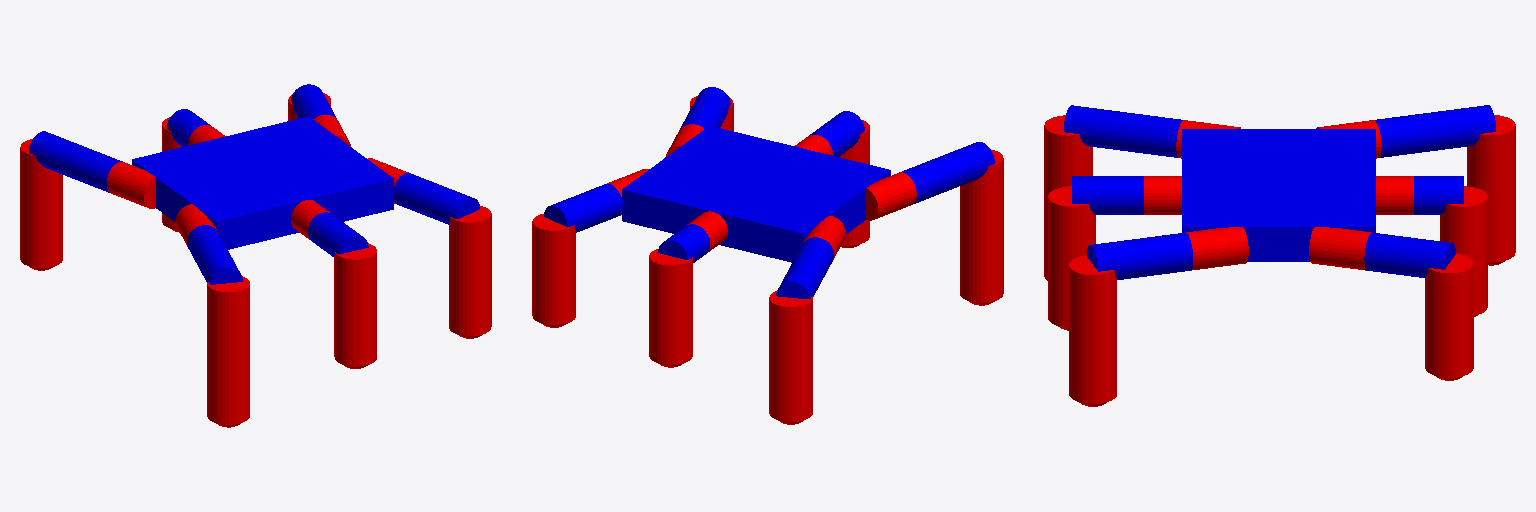
--- Render facts (derived) ---
Views: 3 orthographic renders of the robot side by side, from view 1: azimuth 30°, elevation 25°; view 2: azimuth 150°, elevation 25°; view 3: azimuth 270°, elevation 25°.
Model pexod with 19 links and 18 joints (18 revolute), rooted at base_link, posed all joints at 0.
Visible links, largest first — view 1: base_link, leg_5_3, leg_3_3, leg_4_3, leg_0_3, leg_0_2, leg_3_2, leg_5_2, leg_4_2, leg_0_1, leg_2_2, leg_1_2 (+2 smaller); view 2: base_link, leg_5_3, leg_0_3, leg_1_3, leg_2_3, leg_5_2, leg_2_2, leg_0_2, leg_5_1, leg_3_2, leg_4_2, leg_1_2 (+3 smaller); view 3: base_link, leg_3_3, leg_2_3, leg_0_3, leg_0_2, leg_4_3, leg_5_2, leg_3_2, leg_1_3, leg_2_2, leg_5_3, leg_4_2 (+5 smaller).
Link boxes in pixels (x1,y1,x2,y2): base_link: [132, 116, 393, 249]; leg_5_3: [207, 276, 249, 427]; leg_3_3: [449, 206, 491, 338]; leg_4_3: [334, 243, 376, 368]; leg_0_3: [20, 139, 62, 270]; leg_0_2: [29, 131, 122, 192]; leg_3_2: [393, 173, 479, 224]; leg_5_2: [187, 225, 242, 284]; leg_4_2: [308, 212, 368, 256]; leg_0_1: [107, 162, 155, 208]; leg_2_2: [291, 84, 338, 121]; leg_1_2: [167, 109, 210, 146]; base_link: [622, 126, 890, 262]; leg_5_3: [960, 150, 1003, 305]; leg_0_3: [769, 291, 812, 424]; leg_1_3: [649, 249, 692, 367]; leg_2_3: [532, 214, 575, 327]; leg_5_2: [899, 142, 994, 203]; leg_2_2: [544, 184, 622, 232]; leg_0_2: [776, 237, 833, 299]; leg_5_1: [866, 172, 916, 220]; leg_3_2: [680, 87, 730, 128]; leg_4_2: [809, 111, 864, 156]; leg_1_2: [658, 224, 709, 262]; base_link: [1182, 129, 1375, 261]; leg_3_3: [1069, 255, 1116, 406]; leg_2_3: [1425, 253, 1473, 380]; leg_0_3: [1467, 115, 1515, 265]; leg_0_2: [1375, 105, 1495, 157]; leg_4_3: [1048, 186, 1095, 330]; leg_5_2: [1064, 105, 1182, 157]; leg_3_2: [1087, 232, 1192, 279]; leg_1_3: [1440, 186, 1487, 316]; leg_2_2: [1364, 233, 1455, 277]; leg_5_3: [1044, 115, 1092, 280]; leg_4_2: [1072, 176, 1143, 214].
Bounding box of the posed robot: 0.3925 × 0.4872 × 0.2043 m (x, y, z).
Geometry: primitives only (box / cylinder / sphere), no mesh files.

URDF robot description (pexod):
<?xml version="1.0" ?>
<!-- =================================================================================== -->
<!-- |    This document was autogenerated by xacro from pexod.xacro                    | -->
<!-- |    EDITING THIS FILE BY HAND IS NOT RECOMMENDED                                 | -->
<!-- =================================================================================== -->
<robot name="pexod" xmlns:xacro="http://www.ros.org/wiki/xacro">
  <!-- <xacro:include filename="$(find pexod_description)/urdf/pexod_control.xacro" /> -->
  <!-- MATERIALS -->
  <material name="Blue">
    <color rgba="0 0 1 1"/>
  </material>
  <material name="Red">
    <color rgba="1 0 0 1"/>
  </material>
  <material name="Green">
    <color rgba="0 1 0 1"/>
  </material>
  <material name="Yellow">
    <color rgba="1 1 0 1"/>
  </material>
  <material name="LightGrey">
    <color rgba="0.6 0.6 0.6 1.0"/>
  </material>
  <!-- END OF MATERIALS -->
  <!-- XACRO MACROS FOR VISUALS AND COLLISIONS -->
  <!-- END OF XACRO MACROS -->
  <!-- TORSO -->
  <link name="base_link">
    <visual>
      <origin rpy="0 0 0" xyz="0 0 0"/>
      <geometry>
        <box size="0.24 0.2 0.04"/>
      </geometry>
      <material name="Blue"/>
    </visual>
    <collision>
      <origin rpy="0 0 0" xyz="0 0 0"/>
      <geometry>
        <box size="0.24 0.2 0.04"/>
      </geometry>
    </collision>
    <inertial>
      <!-- CENTER OF MASS -->
      <origin rpy="0 0 0" xyz="0 0 0"/>
      <mass value="1.031"/>
      <!-- box inertia: 1/12*m(y^2+z^2), ... -->
      <inertia ixx="0.00357413333333" ixy="0" ixz="0" iyy="0.00508626666667" iyz="0" izz="0.00838546666667"/>
    </inertial>
  </link>
  <!-- XACRO MACRO FOR LEGS LINKS/JOINTS -->
  <!-- END OF LEG LINKS/JOINTS -->
  <joint name="body_leg_2" type="revolute">
    <parent link="base_link"/>
    <child link="leg_2_1"/>
    <limit effort="30.0" lower="-1.57079632679" upper="1.57079632679" velocity="7.0"/>
    <origin rpy="0 0 -0.3" xyz="0.11 0.04 0"/>
    <!-- <xacro:if value="${index == 5 or index == 4 or index == 3}">
                <axis xyz="0 0 1"/>
            </xacro:if>
            <xacro:if value="${index == 2 or index == 1 or index == 0}"> -->
    <axis xyz="0 0 1"/>
    <!-- </xacro:if> -->
    <dynamics damping="0.0"/>
  </joint>
  <link name="leg_2_1">
    <visual>
      <origin rpy="1.57079632679 0 0" xyz="0.01 0.03 0"/>
      <geometry>
        <cylinder length="0.06" radius="0.02"/>
      </geometry>
      <material name="Red"/>
    </visual>
    <collision>
      <origin rpy="1.57079632679 0 0" xyz="0.01 0.03 0"/>
      <geometry>
        <box size="0.02 0.02 0.06"/>
      </geometry>
    </collision>
    <inertial>
      <!-- CENTER OF MASS -->
      <origin rpy="1.57079632679 0 0" xyz="0.01 0.03 0"/>
      <mass value="0.02"/>
      <!-- box inertia: 1/12*m(y^2+z^2), ... -->
      <inertia ixx="6.66666666667e-06" ixy="0" ixz="0" iyy="6.66666666667e-06" iyz="0" izz="1.33333333333e-06"/>
    </inertial>
  </link>
  <joint name="leg_2_1_2" type="revolute">
    <parent link="leg_2_1"/>
    <child link="leg_2_2"/>
    <limit effort="30.0" lower="-0.78539816339" upper="0.78539816339" velocity="7.0"/>
    <origin rpy="0 0 0" xyz="0 0.06 0"/>
    <axis xyz="1 0 0"/>
    <dynamics damping="0.0"/>
  </joint>
  <link name="leg_2_2">
    <visual>
      <origin rpy="1.57079632679 0 0" xyz="0.01 0.0433397761022 0"/>
      <geometry>
        <cylinder length="0.0866795522044" radius="0.02"/>
      </geometry>
      <material name="Blue"/>
    </visual>
    <collision>
      <origin rpy="1.57079632679 0 0" xyz="0.01 0.0433397761022 0"/>
      <geometry>
        <box size="0.02 0.02 0.0866795522044"/>
      </geometry>
    </collision>
    <inertial>
      <!-- CENTER OF MASS -->
      <origin rpy="1.57079632679 0 0" xyz="0.01 0.0433397761022 0"/>
      <mass value="0.184"/>
      <!-- box inertia: 1/12*m(y^2+z^2), ... -->
      <inertia ixx="0.000121337953145" ixy="0" ixz="0" iyy="0.000121337953145" iyz="0" izz="1.22666666667e-05"/>
    </inertial>
  </link>
  <joint name="leg_2_2_3" type="revolute">
    <parent link="leg_2_2"/>
    <child link="leg_2_3"/>
    <limit effort="30.0" lower="-0.78539816339" upper="0.78539816339" velocity="7.0"/>
    <origin rpy="-1.57079632679 0 0" xyz="0 0.0866795522044 0"/>
    <axis xyz="-1 0 0"/>
    <dynamics damping="0.0"/>
  </joint>
  <link name="leg_2_3">
    <visual>
      <origin rpy="1.57079632679 0 0" xyz="0.0125 0.0597064525005 0"/>
      <geometry>
        <cylinder length="0.119412905001" radius="0.025"/>
      </geometry>
      <material name="Red"/>
    </visual>
    <visual>
      <origin rpy="1.57079632679 0 0" xyz="0.0125 0.106912905001 0"/>
      <geometry>
        <sphere radius="0.025"/>
      </geometry>
      <material name="Red"/>
    </visual>
    <collision>
      <origin rpy="1.57079632679 0 0" xyz="0.0125 0.0597064525005 0"/>
      <geometry>
        <box size="0.025 0.025 0.119412905001"/>
      </geometry>
    </collision>
    <collision>
      <origin rpy="1.57079632679 0 0" xyz="0.0125 0.106912905001 0"/>
      <geometry>
        <sphere radius="0.025"/>
      </geometry>
      <material name="Red"/>
    </collision>
    <inertial>
      <!-- CENTER OF MASS -->
      <origin rpy="1.57079632679 0 0" xyz="0.0125 0.0597064525005 0"/>
      <mass value="0.04"/>
      <!-- box inertia: 1/12*m(y^2+z^2), ... -->
      <inertia ixx="4.96148062693e-05" ixy="0" ixz="0" iyy="4.96148062693e-05" iyz="0" izz="4.16666666667e-06"/>
    </inertial>
  </link>
  <joint name="body_leg_3" type="revolute">
    <parent link="base_link"/>
    <child link="leg_3_1"/>
    <limit effort="30.0" lower="-1.57079632679" upper="1.57079632679" velocity="7.0"/>
    <origin rpy="0 0 0.3" xyz="0.11 -0.04 0"/>
    <!-- <xacro:if value="${index == 5 or index == 4 or index == 3}">
                <axis xyz="0 0 1"/>
            </xacro:if>
            <xacro:if value="${index == 2 or index == 1 or index == 0}"> -->
    <axis xyz="0 0 1"/>
    <!-- </xacro:if> -->
    <dynamics damping="0.0"/>
  </joint>
  <link name="leg_3_1">
    <visual>
      <origin rpy="1.57079632679 0 0" xyz="0.01 -0.03 0"/>
      <geometry>
        <cylinder length="0.06" radius="0.02"/>
      </geometry>
      <material name="Red"/>
    </visual>
    <collision>
      <origin rpy="1.57079632679 0 0" xyz="0.01 -0.03 0"/>
      <geometry>
        <box size="0.02 0.02 0.06"/>
      </geometry>
    </collision>
    <inertial>
      <!-- CENTER OF MASS -->
      <origin rpy="1.57079632679 0 0" xyz="0.01 -0.03 0"/>
      <mass value="0.02"/>
      <!-- box inertia: 1/12*m(y^2+z^2), ... -->
      <inertia ixx="6.66666666667e-06" ixy="0" ixz="0" iyy="6.66666666667e-06" iyz="0" izz="1.33333333333e-06"/>
    </inertial>
  </link>
  <joint name="leg_3_1_2" type="revolute">
    <parent link="leg_3_1"/>
    <child link="leg_3_2"/>
    <limit effort="30.0" lower="-0.78539816339" upper="0.78539816339" velocity="7.0"/>
    <origin rpy="0 0 0" xyz="0 -0.06 0"/>
    <axis xyz="-1 0 0"/>
    <dynamics damping="0.0"/>
  </joint>
  <link name="leg_3_2">
    <visual>
      <origin rpy="1.57079632679 0 0" xyz="0.01 -0.0515105078135 0"/>
      <geometry>
        <cylinder length="0.103021015627" radius="0.02"/>
      </geometry>
      <material name="Blue"/>
    </visual>
    <collision>
      <origin rpy="1.57079632679 0 0" xyz="0.01 -0.0515105078135 0"/>
      <geometry>
        <box size="0.02 0.02 0.103021015627"/>
      </geometry>
    </collision>
    <inertial>
      <!-- CENTER OF MASS -->
      <origin rpy="1.57079632679 0 0" xyz="0.01 -0.0515105078135 0"/>
      <mass value="0.184"/>
      <!-- box inertia: 1/12*m(y^2+z^2), ... -->
      <inertia ixx="0.000168871054799" ixy="0" ixz="0" iyy="0.000168871054799" iyz="0" izz="1.22666666667e-05"/>
    </inertial>
  </link>
  <joint name="leg_3_2_3" type="revolute">
    <parent link="leg_3_2"/>
    <child link="leg_3_3"/>
    <limit effort="30.0" lower="-0.78539816339" upper="0.78539816339" velocity="7.0"/>
    <origin rpy="1.57079632679 0 0" xyz="0 -0.103021015627 0"/>
    <axis xyz="1 0 0"/>
    <dynamics damping="0.0"/>
  </joint>
  <link name="leg_3_3">
    <visual>
      <origin rpy="1.57079632679 0 0" xyz="0.0125 -0.0735121999605 0"/>
      <geometry>
        <cylinder length="0.147024399921" radius="0.025"/>
      </geometry>
      <material name="Red"/>
    </visual>
    <visual>
      <origin rpy="1.57079632679 0 0" xyz="0.0125 -0.134524399921 0"/>
      <geometry>
        <sphere radius="0.025"/>
      </geometry>
      <material name="Red"/>
    </visual>
    <collision>
      <origin rpy="1.57079632679 0 0" xyz="0.0125 -0.0735121999605 0"/>
      <geometry>
        <box size="0.025 0.025 0.147024399921"/>
      </geometry>
    </collision>
    <collision>
      <origin rpy="1.57079632679 0 0" xyz="0.0125 -0.134524399921 0"/>
      <geometry>
        <sphere radius="0.025"/>
      </geometry>
      <material name="Red"/>
    </collision>
    <inertial>
      <!-- CENTER OF MASS -->
      <origin rpy="1.57079632679 0 0" xyz="0.0125 -0.0735121999605 0"/>
      <mass value="0.04"/>
      <!-- box inertia: 1/12*m(y^2+z^2), ... -->
      <inertia ixx="7.41372472404e-05" ixy="0" ixz="0" iyy="7.41372472404e-05" iyz="0" izz="4.16666666667e-06"/>
    </inertial>
  </link>
  <joint name="body_leg_0" type="revolute">
    <parent link="base_link"/>
    <child link="leg_0_1"/>
    <limit effort="30.0" lower="-1.57079632679" upper="1.57079632679" velocity="7.0"/>
    <origin rpy="0 0 0.3" xyz="-0.13 0.04 0"/>
    <!-- <xacro:if value="${index == 5 or index == 4 or index == 3}">
                <axis xyz="0 0 1"/>
            </xacro:if>
            <xacro:if value="${index == 2 or index == 1 or index == 0}"> -->
    <axis xyz="0 0 1"/>
    <!-- </xacro:if> -->
    <dynamics damping="0.0"/>
  </joint>
  <link name="leg_0_1">
    <visual>
      <origin rpy="1.57079632679 0 0" xyz="0.01 0.03 0"/>
      <geometry>
        <cylinder length="0.06" radius="0.02"/>
      </geometry>
      <material name="Red"/>
    </visual>
    <collision>
      <origin rpy="1.57079632679 0 0" xyz="0.01 0.03 0"/>
      <geometry>
        <box size="0.02 0.02 0.06"/>
      </geometry>
    </collision>
    <inertial>
      <!-- CENTER OF MASS -->
      <origin rpy="1.57079632679 0 0" xyz="0.01 0.03 0"/>
      <mass value="0.02"/>
      <!-- box inertia: 1/12*m(y^2+z^2), ... -->
      <inertia ixx="6.66666666667e-06" ixy="0" ixz="0" iyy="6.66666666667e-06" iyz="0" izz="1.33333333333e-06"/>
    </inertial>
  </link>
  <joint name="leg_0_1_2" type="revolute">
    <parent link="leg_0_1"/>
    <child link="leg_0_2"/>
    <limit effort="30.0" lower="-0.78539816339" upper="0.78539816339" velocity="7.0"/>
    <origin rpy="0 0 0" xyz="0 0.06 0"/>
    <axis xyz="1 0 0"/>
    <dynamics damping="0.0"/>
  </joint>
  <link name="leg_0_2">
    <visual>
      <origin rpy="1.57079632679 0 0" xyz="0.01 0.062191549242 0"/>
      <geometry>
        <cylinder length="0.124383098484" radius="0.02"/>
      </geometry>
      <material name="Blue"/>
    </visual>
    <collision>
      <origin rpy="1.57079632679 0 0" xyz="0.01 0.062191549242 0"/>
      <geometry>
        <box size="0.02 0.02 0.124383098484"/>
      </geometry>
    </collision>
    <inertial>
      <!-- CENTER OF MASS -->
      <origin rpy="1.57079632679 0 0" xyz="0.01 0.062191549242 0"/>
      <mass value="0.184"/>
      <!-- box inertia: 1/12*m(y^2+z^2), ... -->
      <inertia ixx="0.00024335771289" ixy="0" ixz="0" iyy="0.00024335771289" iyz="0" izz="1.22666666667e-05"/>
    </inertial>
  </link>
  <joint name="leg_0_2_3" type="revolute">
    <parent link="leg_0_2"/>
    <child link="leg_0_3"/>
    <limit effort="30.0" lower="-0.78539816339" upper="0.78539816339" velocity="7.0"/>
    <origin rpy="-1.57079632679 0 0" xyz="0 0.124383098484 0"/>
    <axis xyz="-1 0 0"/>
    <dynamics damping="0.0"/>
  </joint>
  <link name="leg_0_3">
    <visual>
      <origin rpy="1.57079632679 0 0" xyz="0.0125 0.0726960209305 0"/>
      <geometry>
        <cylinder length="0.145392041861" radius="0.025"/>
      </geometry>
      <material name="Red"/>
    </visual>
    <visual>
      <origin rpy="1.57079632679 0 0" xyz="0.0125 0.132892041861 0"/>
      <geometry>
        <sphere radius="0.025"/>
      </geometry>
      <material name="Red"/>
    </visual>
    <collision>
      <origin rpy="1.57079632679 0 0" xyz="0.0125 0.0726960209305 0"/>
      <geometry>
        <box size="0.025 0.025 0.145392041861"/>
      </geometry>
    </collision>
    <collision>
      <origin rpy="1.57079632679 0 0" xyz="0.0125 0.132892041861 0"/>
      <geometry>
        <sphere radius="0.025"/>
      </geometry>
      <material name="Red"/>
    </collision>
    <inertial>
      <!-- CENTER OF MASS -->
      <origin rpy="1.57079632679 0 0" xyz="0.0125 0.0726960209305 0"/>
      <mass value="0.04"/>
      <!-- box inertia: 1/12*m(y^2+z^2), ... -->
      <inertia ixx="7.25461527884e-05" ixy="0" ixz="0" iyy="7.25461527884e-05" iyz="0" izz="4.16666666667e-06"/>
    </inertial>
  </link>
  <joint name="body_leg_5" type="revolute">
    <parent link="base_link"/>
    <child link="leg_5_1"/>
    <limit effort="30.0" lower="-1.57079632679" upper="1.57079632679" velocity="7.0"/>
    <origin rpy="0 0 -0.3" xyz="-0.13 -0.04 0"/>
    <!-- <xacro:if value="${index == 5 or index == 4 or index == 3}">
                <axis xyz="0 0 1"/>
            </xacro:if>
            <xacro:if value="${index == 2 or index == 1 or index == 0}"> -->
    <axis xyz="0 0 1"/>
    <!-- </xacro:if> -->
    <dynamics damping="0.0"/>
  </joint>
  <link name="leg_5_1">
    <visual>
      <origin rpy="1.57079632679 0 0" xyz="0.01 -0.03 0"/>
      <geometry>
        <cylinder length="0.06" radius="0.02"/>
      </geometry>
      <material name="Red"/>
    </visual>
    <collision>
      <origin rpy="1.57079632679 0 0" xyz="0.01 -0.03 0"/>
      <geometry>
        <box size="0.02 0.02 0.06"/>
      </geometry>
    </collision>
    <inertial>
      <!-- CENTER OF MASS -->
      <origin rpy="1.57079632679 0 0" xyz="0.01 -0.03 0"/>
      <mass value="0.02"/>
      <!-- box inertia: 1/12*m(y^2+z^2), ... -->
      <inertia ixx="6.66666666667e-06" ixy="0" ixz="0" iyy="6.66666666667e-06" iyz="0" izz="1.33333333333e-06"/>
    </inertial>
  </link>
  <joint name="leg_5_1_2" type="revolute">
    <parent link="leg_5_1"/>
    <child link="leg_5_2"/>
    <limit effort="30.0" lower="-0.78539816339" upper="0.78539816339" velocity="7.0"/>
    <origin rpy="0 0 0" xyz="0 -0.06 0"/>
    <axis xyz="-1 0 0"/>
    <dynamics damping="0.0"/>
  </joint>
  <link name="leg_5_2">
    <visual>
      <origin rpy="1.57079632679 0 0" xyz="0.01 -0.0610276382765 0"/>
      <geometry>
        <cylinder length="0.122055276553" radius="0.02"/>
      </geometry>
      <material name="Blue"/>
    </visual>
    <collision>
      <origin rpy="1.57079632679 0 0" xyz="0.01 -0.0610276382765 0"/>
      <geometry>
        <box size="0.02 0.02 0.122055276553"/>
      </geometry>
    </collision>
    <inertial>
      <!-- CENTER OF MASS -->
      <origin rpy="1.57079632679 0 0" xyz="0.01 -0.0610276382765 0"/>
      <mass value="0.184"/>
      <!-- box inertia: 1/12*m(y^2+z^2), ... -->
      <inertia ixx="0.000234561521528" ixy="0" ixz="0" iyy="0.000234561521528" iyz="0" izz="1.22666666667e-05"/>
    </inertial>
  </link>
  <joint name="leg_5_2_3" type="revolute">
    <parent link="leg_5_2"/>
    <child link="leg_5_3"/>
    <limit effort="30.0" lower="-0.78539816339" upper="0.78539816339" velocity="7.0"/>
    <origin rpy="1.57079632679 0 0" xyz="0 -0.122055276553 0"/>
    <axis xyz="1 0 0"/>
    <dynamics damping="0.0"/>
  </joint>
  <link name="leg_5_3">
    <visual>
      <origin rpy="1.57079632679 0 0" xyz="0.0125 -0.0859021788685 0"/>
      <geometry>
        <cylinder length="0.171804357737" radius="0.025"/>
      </geometry>
      <material name="Red"/>
    </visual>
    <visual>
      <origin rpy="1.57079632679 0 0" xyz="0.0125 -0.159304357737 0"/>
      <geometry>
        <sphere radius="0.025"/>
      </geometry>
      <material name="Red"/>
    </visual>
    <collision>
      <origin rpy="1.57079632679 0 0" xyz="0.0125 -0.0859021788685 0"/>
      <geometry>
        <box size="0.025 0.025 0.171804357737"/>
      </geometry>
    </collision>
    <collision>
      <origin rpy="1.57079632679 0 0" xyz="0.0125 -0.159304357737 0"/>
      <geometry>
        <sphere radius="0.025"/>
      </geometry>
      <material name="Red"/>
    </collision>
    <inertial>
      <!-- CENTER OF MASS -->
      <origin rpy="1.57079632679 0 0" xyz="0.0125 -0.0859021788685 0"/>
      <mass value="0.04"/>
      <!-- box inertia: 1/12*m(y^2+z^2), ... -->
      <inertia ixx="0.000100472457791" ixy="0" ixz="0" iyy="0.000100472457791" iyz="0" izz="4.16666666667e-06"/>
    </inertial>
  </link>
  <joint name="body_leg_1" type="revolute">
    <parent link="base_link"/>
    <child link="leg_1_1"/>
    <limit effort="30.0" lower="-1.57079632679" upper="1.57079632679" velocity="7.0"/>
    <origin rpy="0 0 0" xyz="-0.01 0.08 0"/>
    <!-- <xacro:if value="${index == 5 or index == 4 or index == 3}">
                <axis xyz="0 0 1"/>
            </xacro:if>
            <xacro:if value="${index == 2 or index == 1 or index == 0}"> -->
    <axis xyz="0 0 1"/>
    <!-- </xacro:if> -->
    <dynamics damping="0.0"/>
  </joint>
  <link name="leg_1_1">
    <visual>
      <origin rpy="1.57079632679 0 0" xyz="0.01 0.03 0"/>
      <geometry>
        <cylinder length="0.06" radius="0.02"/>
      </geometry>
      <material name="Red"/>
    </visual>
    <collision>
      <origin rpy="1.57079632679 0 0" xyz="0.01 0.03 0"/>
      <geometry>
        <box size="0.02 0.02 0.06"/>
      </geometry>
    </collision>
    <inertial>
      <!-- CENTER OF MASS -->
      <origin rpy="1.57079632679 0 0" xyz="0.01 0.03 0"/>
      <mass value="0.02"/>
      <!-- box inertia: 1/12*m(y^2+z^2), ... -->
      <inertia ixx="6.66666666667e-06" ixy="0" ixz="0" iyy="6.66666666667e-06" iyz="0" izz="1.33333333333e-06"/>
    </inertial>
  </link>
  <joint name="leg_1_1_2" type="revolute">
    <parent link="leg_1_1"/>
    <child link="leg_1_2"/>
    <limit effort="30.0" lower="-0.78539816339" upper="0.78539816339" velocity="7.0"/>
    <origin rpy="0 0 0" xyz="0 0.06 0"/>
    <axis xyz="1 0 0"/>
    <dynamics damping="0.0"/>
  </joint>
  <link name="leg_1_2">
    <visual>
      <origin rpy="1.57079632679 0 0" xyz="0.01 0.0255915003295 0"/>
      <geometry>
        <cylinder length="0.051183000659" radius="0.02"/>
      </geometry>
      <material name="Blue"/>
    </visual>
    <collision>
      <origin rpy="1.57079632679 0 0" xyz="0.01 0.0255915003295 0"/>
      <geometry>
        <box size="0.02 0.02 0.051183000659"/>
      </geometry>
    </collision>
    <inertial>
      <!-- CENTER OF MASS -->
      <origin rpy="1.57079632679 0 0" xyz="0.01 0.0255915003295 0"/>
      <mass value="0.184"/>
      <!-- box inertia: 1/12*m(y^2+z^2), ... -->
      <inertia ixx="4.63020598657e-05" ixy="0" ixz="0" iyy="4.63020598657e-05" iyz="0" izz="1.22666666667e-05"/>
    </inertial>
  </link>
  <joint name="leg_1_2_3" type="revolute">
    <parent link="leg_1_2"/>
    <child link="leg_1_3"/>
    <limit effort="30.0" lower="-0.78539816339" upper="0.78539816339" velocity="7.0"/>
    <origin rpy="-1.57079632679 0 0" xyz="0 0.051183000659 0"/>
    <axis xyz="-1 0 0"/>
    <dynamics damping="0.0"/>
  </joint>
  <link name="leg_1_3">
    <visual>
      <origin rpy="1.57079632679 0 0" xyz="0.0125 0.0628275685725 0"/>
      <geometry>
        <cylinder length="0.125655137145" radius="0.025"/>
      </geometry>
      <material name="Red"/>
    </visual>
    <visual>
      <origin rpy="1.57079632679 0 0" xyz="0.0125 0.113155137145 0"/>
      <geometry>
        <sphere radius="0.025"/>
      </geometry>
      <material name="Red"/>
    </visual>
    <collision>
      <origin rpy="1.57079632679 0 0" xyz="0.0125 0.0628275685725 0"/>
      <geometry>
        <box size="0.025 0.025 0.125655137145"/>
      </geometry>
    </collision>
    <collision>
      <origin rpy="1.57079632679 0 0" xyz="0.0125 0.113155137145 0"/>
      <geometry>
        <sphere radius="0.025"/>
      </geometry>
      <material name="Red"/>
    </collision>
    <inertial>
      <!-- CENTER OF MASS -->
      <origin rpy="1.57079632679 0 0" xyz="0.0125 0.0628275685725 0"/>
      <mass value="0.04"/>
      <!-- box inertia: 1/12*m(y^2+z^2), ... -->
      <inertia ixx="5.47140449698e-05" ixy="0" ixz="0" iyy="5.47140449698e-05" iyz="0" izz="4.16666666667e-06"/>
    </inertial>
  </link>
  <joint name="body_leg_4" type="revolute">
    <parent link="base_link"/>
    <child link="leg_4_1"/>
    <limit effort="30.0" lower="-1.57079632679" upper="1.57079632679" velocity="7.0"/>
    <origin rpy="0 0 0" xyz="-0.01 -0.08 0"/>
    <!-- <xacro:if value="${index == 5 or index == 4 or index == 3}">
                <axis xyz="0 0 1"/>
            </xacro:if>
            <xacro:if value="${index == 2 or index == 1 or index == 0}"> -->
    <axis xyz="0 0 1"/>
    <!-- </xacro:if> -->
    <dynamics damping="0.0"/>
  </joint>
  <link name="leg_4_1">
    <visual>
      <origin rpy="1.57079632679 0 0" xyz="0.01 -0.03 0"/>
      <geometry>
        <cylinder length="0.06" radius="0.02"/>
      </geometry>
      <material name="Red"/>
    </visual>
    <collision>
      <origin rpy="1.57079632679 0 0" xyz="0.01 -0.03 0"/>
      <geometry>
        <box size="0.02 0.02 0.06"/>
      </geometry>
    </collision>
    <inertial>
      <!-- CENTER OF MASS -->
      <origin rpy="1.57079632679 0 0" xyz="0.01 -0.03 0"/>
      <mass value="0.02"/>
      <!-- box inertia: 1/12*m(y^2+z^2), ... -->
      <inertia ixx="6.66666666667e-06" ixy="0" ixz="0" iyy="6.66666666667e-06" iyz="0" izz="1.33333333333e-06"/>
    </inertial>
  </link>
  <joint name="leg_4_1_2" type="revolute">
    <parent link="leg_4_1"/>
    <child link="leg_4_2"/>
    <limit effort="30.0" lower="-0.78539816339" upper="0.78539816339" velocity="7.0"/>
    <origin rpy="0 0 0" xyz="0 -0.06 0"/>
    <axis xyz="-1 0 0"/>
    <dynamics damping="0.0"/>
  </joint>
  <link name="leg_4_2">
    <visual>
      <origin rpy="1.57079632679 0 0" xyz="0.01 -0.0368800808955 0"/>
      <geometry>
        <cylinder length="0.073760161791" radius="0.02"/>
      </geometry>
      <material name="Blue"/>
    </visual>
    <collision>
      <origin rpy="1.57079632679 0 0" xyz="0.01 -0.0368800808955 0"/>
      <geometry>
        <box size="0.02 0.02 0.073760161791"/>
      </geometry>
    </collision>
    <inertial>
      <!-- CENTER OF MASS -->
      <origin rpy="1.57079632679 0 0" xyz="0.01 -0.0368800808955 0"/>
      <mass value="0.184"/>
      <!-- box inertia: 1/12*m(y^2+z^2), ... -->
      <inertia ixx="8.9555275834e-05" ixy="0" ixz="0" iyy="8.9555275834e-05" iyz="0" izz="1.22666666667e-05"/>
    </inertial>
  </link>
  <joint name="leg_4_2_3" type="revolute">
    <parent link="leg_4_2"/>
    <child link="leg_4_3"/>
    <limit effort="30.0" lower="-0.78539816339" upper="0.78539816339" velocity="7.0"/>
    <origin rpy="1.57079632679 0 0" xyz="0 -0.073760161791 0"/>
    <axis xyz="1 0 0"/>
    <dynamics damping="0.0"/>
  </joint>
  <link name="leg_4_3">
    <visual>
      <origin rpy="1.57079632679 0 0" xyz="0.0125 -0.069259387548 0"/>
      <geometry>
        <cylinder length="0.138518775096" radius="0.025"/>
      </geometry>
      <material name="Red"/>
    </visual>
    <visual>
      <origin rpy="1.57079632679 0 0" xyz="0.0125 -0.126018775096 0"/>
      <geometry>
        <sphere radius="0.025"/>
      </geometry>
      <material name="Red"/>
    </visual>
    <collision>
      <origin rpy="1.57079632679 0 0" xyz="0.0125 -0.069259387548 0"/>
      <geometry>
        <box size="0.025 0.025 0.138518775096"/>
      </geometry>
    </collision>
    <collision>
      <origin rpy="1.57079632679 0 0" xyz="0.0125 -0.126018775096 0"/>
      <geometry>
        <sphere radius="0.025"/>
      </geometry>
      <material name="Red"/>
    </collision>
    <inertial>
      <!-- CENTER OF MASS -->
      <origin rpy="1.57079632679 0 0" xyz="0.0125 -0.069259387548 0"/>
      <mass value="0.04"/>
      <!-- box inertia: 1/12*m(y^2+z^2), ... -->
      <inertia ixx="6.60415035137e-05" ixy="0" ixz="0" iyy="6.60415035137e-05" iyz="0" izz="4.16666666667e-06"/>
    </inertial>
  </link>
  <!-- END OF LEG LINKS/JOINTS -->
</robot>
